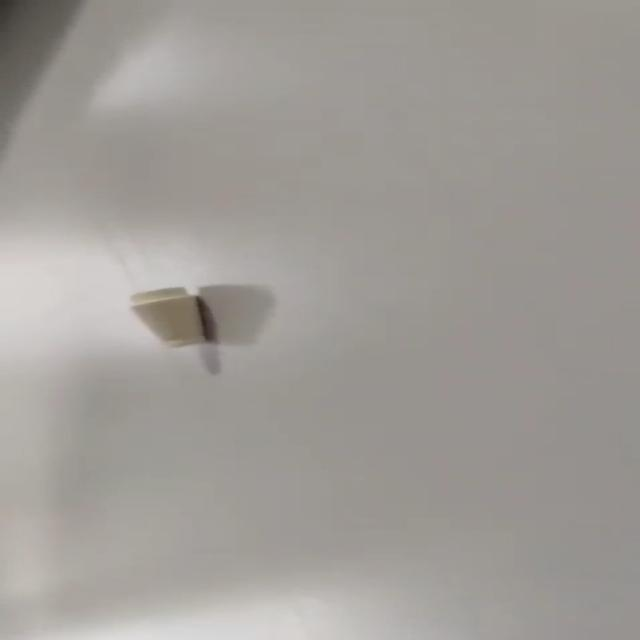Z1x1x1: (120, 282, 218, 352)
